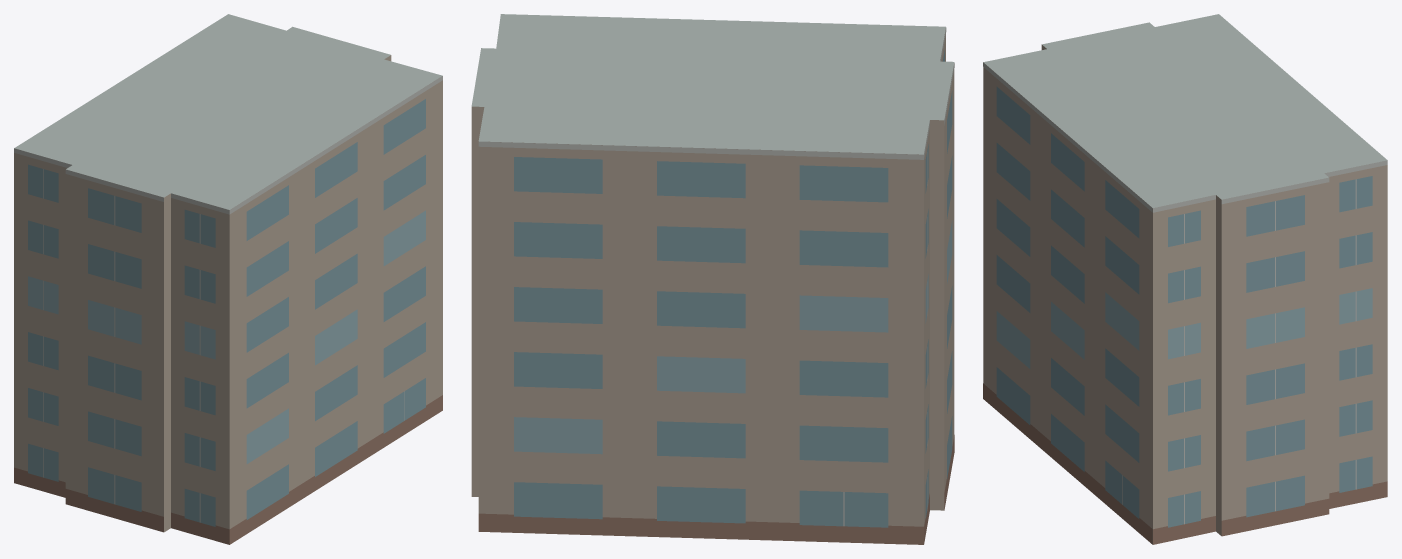
Rendered from survey-upis-32697624.glb.
3 views of the same model, side by side, from view 1: azimuth 30°, elevation 25°; view 2: azimuth 150°, elevation 25°; view 3: azimuth 270°, elevation 25° (orthographic). The views are drawn at different scales.
Parts seen in each view (by area): view 1: survey-upis-32697624.tmp; view 2: survey-upis-32697624.tmp; view 3: survey-upis-32697624.tmp.
Part boxes in pixels (x1,y1,x2,y2): survey-upis-32697624.tmp: [14, 14, 442, 544]; survey-upis-32697624.tmp: [471, 14, 954, 544]; survey-upis-32697624.tmp: [983, 14, 1387, 544].
Bounding box in the file's own units: 22.16 × 17.9 × 19.5.
